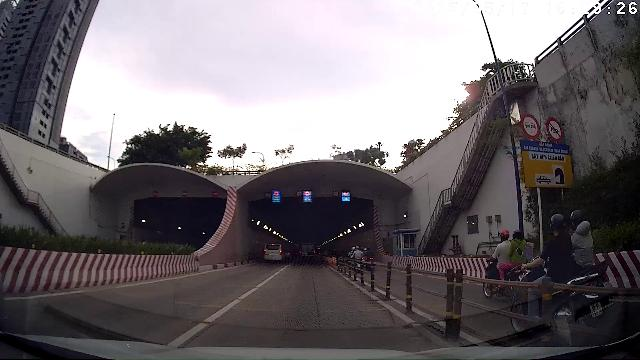128-cam-su-dung-coi: (546, 116, 563, 142)
